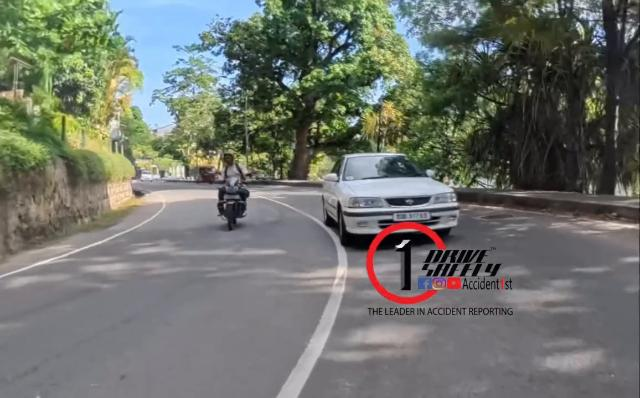illegal overtaking: (206, 150, 263, 237)
